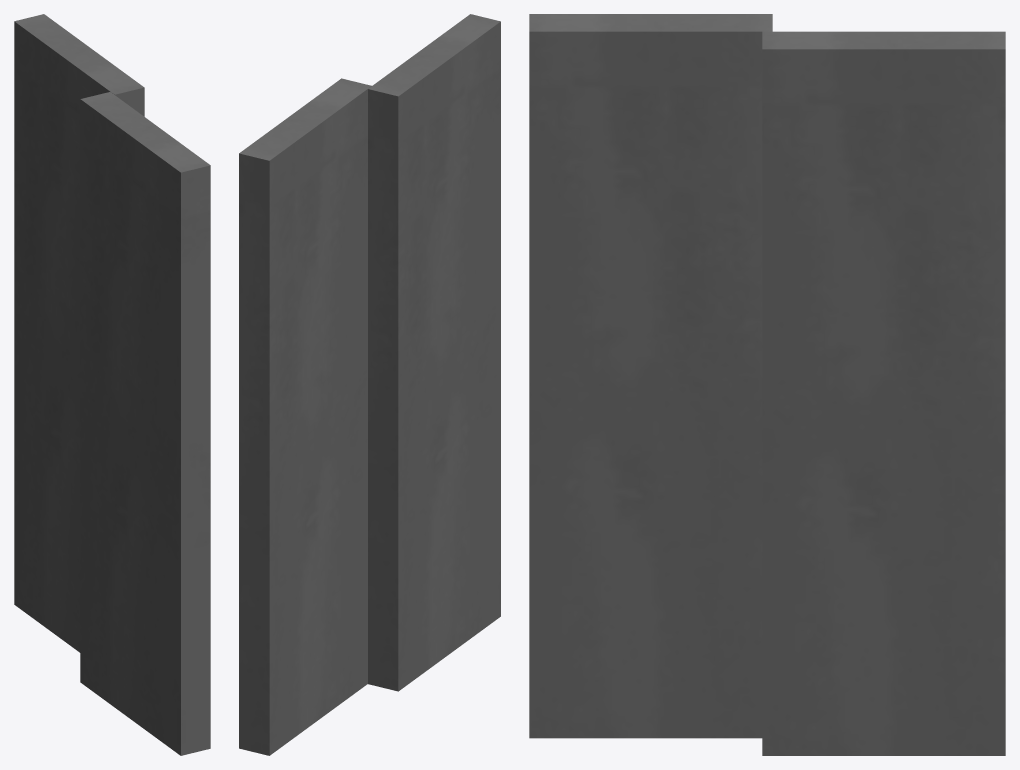
File: elevator_door_right.fbx
3 views of the same model, side by side, from view 1: azimuth 30°, elevation 25°; view 2: azimuth 150°, elevation 25°; view 3: azimuth 270°, elevation 25° (orthographic). The views are drawn at different scales.
Visible parts, largest first — view 1: Elevator_door; view 2: Elevator_door; view 3: Elevator_door.
Part boxes in pixels (x1,y1,x2,y2): Elevator_door: (14, 14, 210, 755); Elevator_door: (239, 14, 500, 755); Elevator_door: (529, 14, 1005, 755).
Size of the model in its own units: 24.11 by 224 by 137.
